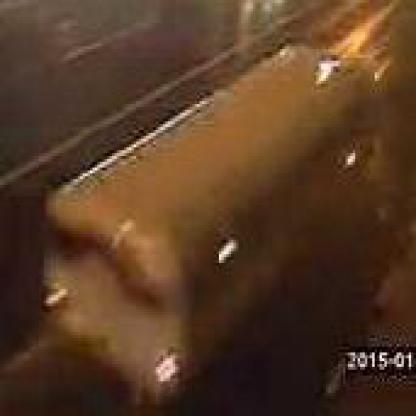bus: (50, 59, 366, 388)
